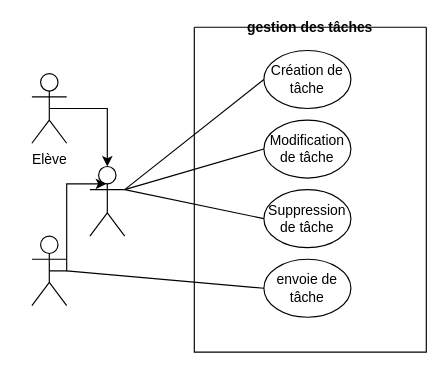
This 447x382 diagram has some shape labels left out. The shapes that lost their labels are listed below. From the top down, each one's centre as x and y in pixels, then its label:
At (107,200): "Utilisateur".
At (49,270): "Bénévole".
